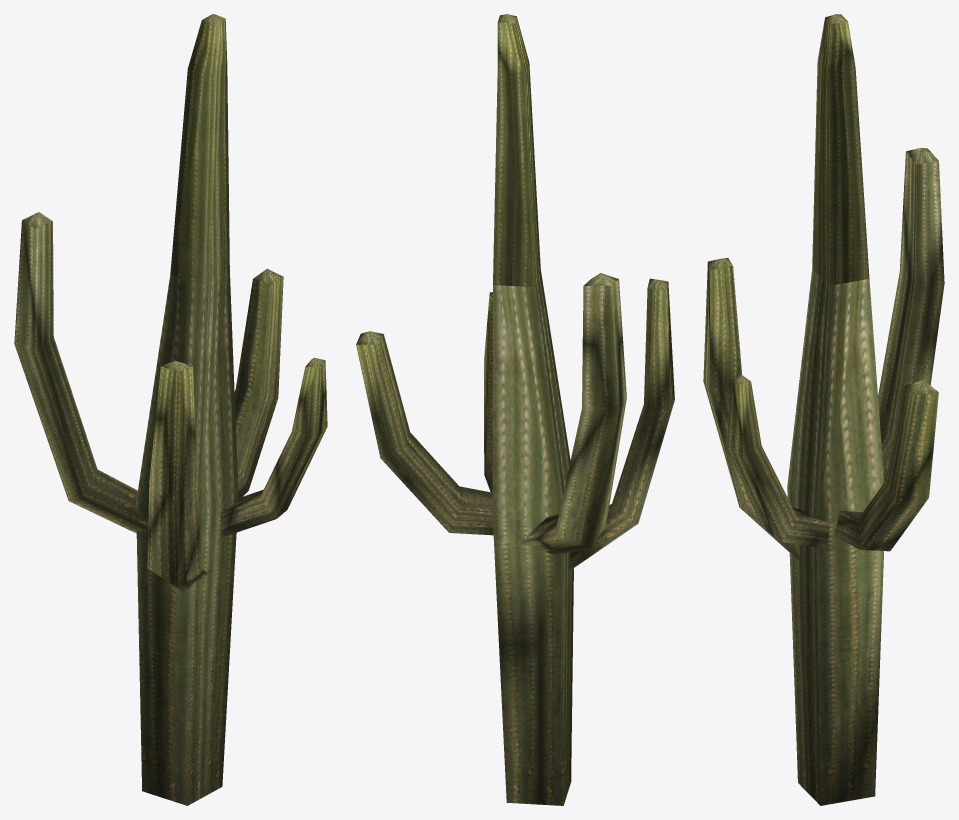
File: VegetationDesert003a_lod2.glb
3 renders of one model, left to right at view 1: azimuth 30°, elevation 25°; view 2: azimuth 150°, elevation 25°; view 3: azimuth 270°, elevation 25°, orthographic. The views are drawn at different scales.
Parts seen in each view (by area): view 1: vegetation_desert003a_lod2; view 2: vegetation_desert003a_lod2; view 3: vegetation_desert003a_lod2.
Part boxes in pixels (x1,y1,x2,y2): vegetation_desert003a_lod2: [14, 14, 327, 805]; vegetation_desert003a_lod2: [356, 14, 674, 805]; vegetation_desert003a_lod2: [703, 14, 944, 805].
Size of the model in its own units: 3.13 by 8.75 by 2.42.
Materials: 1 (1 with a texture image).
